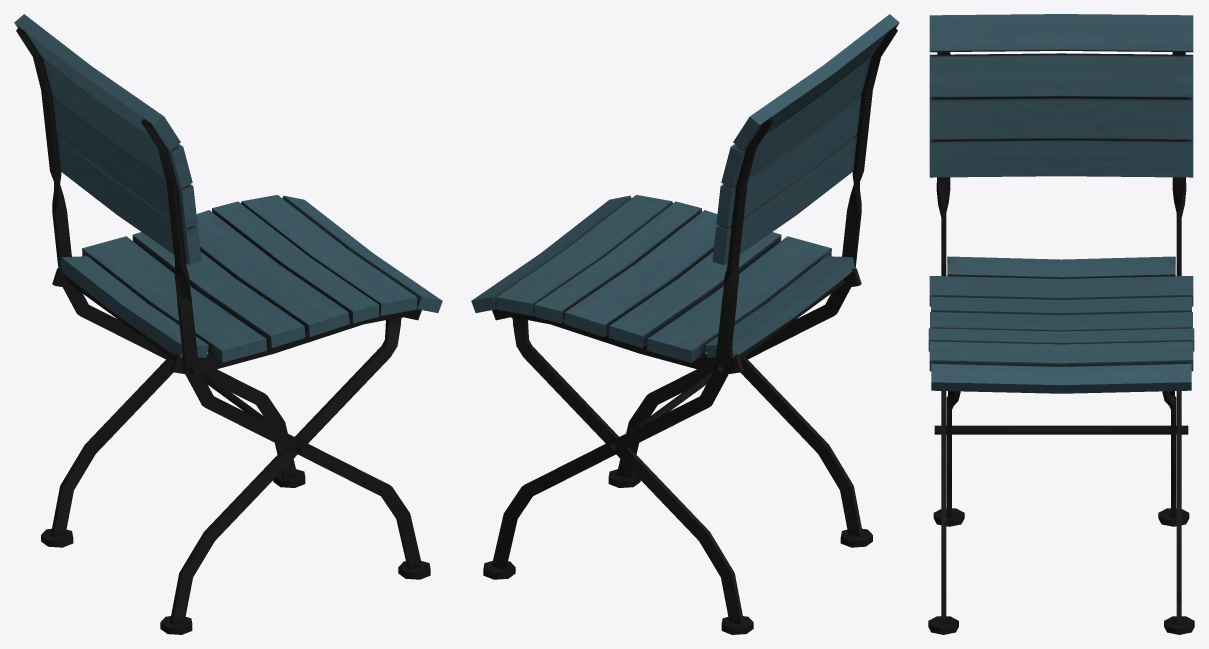
3 views of the same model, side by side, from view 1: azimuth 30°, elevation 25°; view 2: azimuth 150°, elevation 25°; view 3: azimuth 270°, elevation 25° (orthographic). The views are drawn at different scales.
Visible parts, largest first — view 1: body0_model0_lod0_mesh0; view 2: body0_model0_lod0_mesh0; view 3: body0_model0_lod0_mesh0.
Boxes of the visible parts, <box> form: body0_model0_lod0_mesh0: <box>14,14,442,634</box>; body0_model0_lod0_mesh0: <box>471,14,899,634</box>; body0_model0_lod0_mesh0: <box>928,14,1194,634</box>.
Bounding box in the file's own units: 28.41 × 48.75 × 23.82.
1 material, 1 textured.
